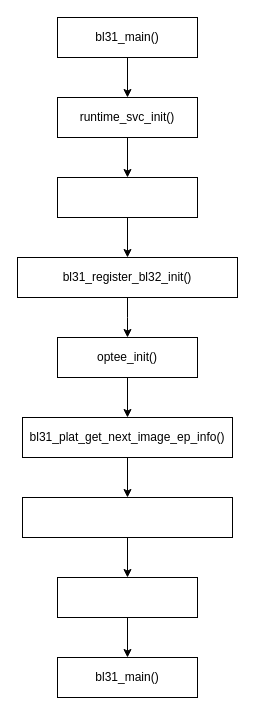
Some shapes in this 255 by 715 pixel diagram are drawn without their labels. Each missing label, with the centre of its shape:
"optee_setup()" belongs at pixel 127 197.
"opteed_synchronous_sp_entry()" belongs at pixel 127 517.
"Pass Control to BL32" belongs at pixel 127 597.
